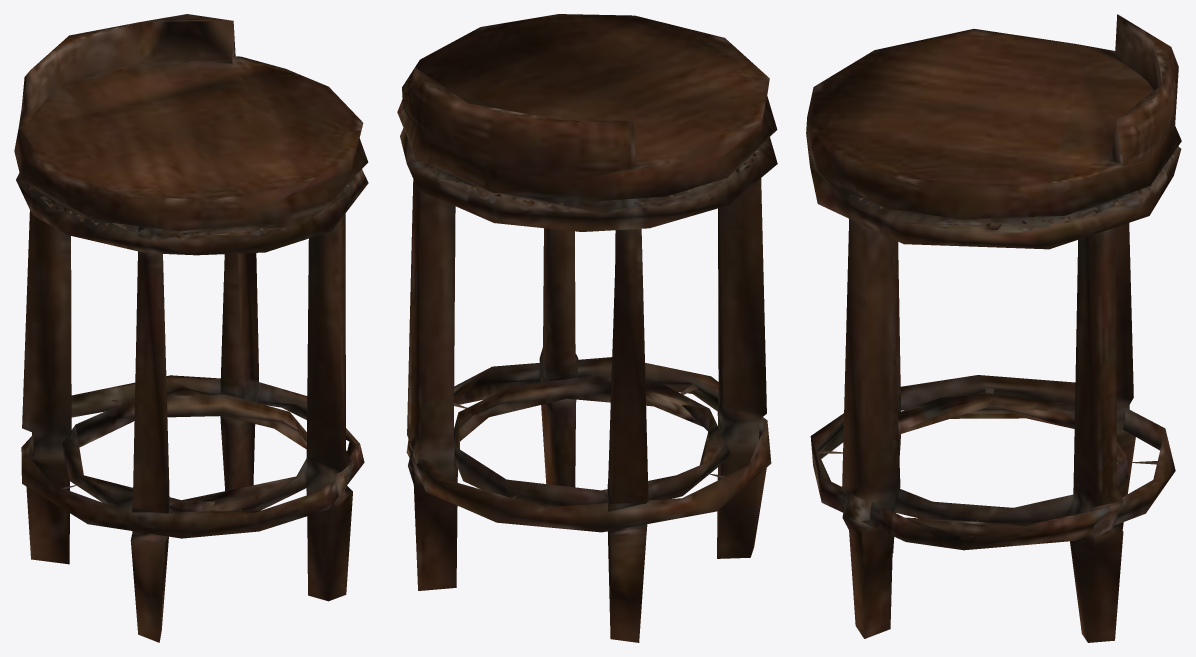
File: barstool.glb
The picture shows the model from 3 angles, left to right: view 1: azimuth 30°, elevation 25°; view 2: azimuth 150°, elevation 25°; view 3: azimuth 270°, elevation 25°; orthographic projection. The views are drawn at different scales.
Visible parts, largest first — view 1: lo; view 2: lo; view 3: lo.
Boxes of the visible parts, box(x1,y1,x2,y2) form: lo: box(14, 14, 368, 642); lo: box(397, 14, 777, 642); lo: box(806, 14, 1181, 642).
Size of the model in its own units: 0.4899 by 0.752 by 0.4858.
Materials: 1 (1 with a texture image).
